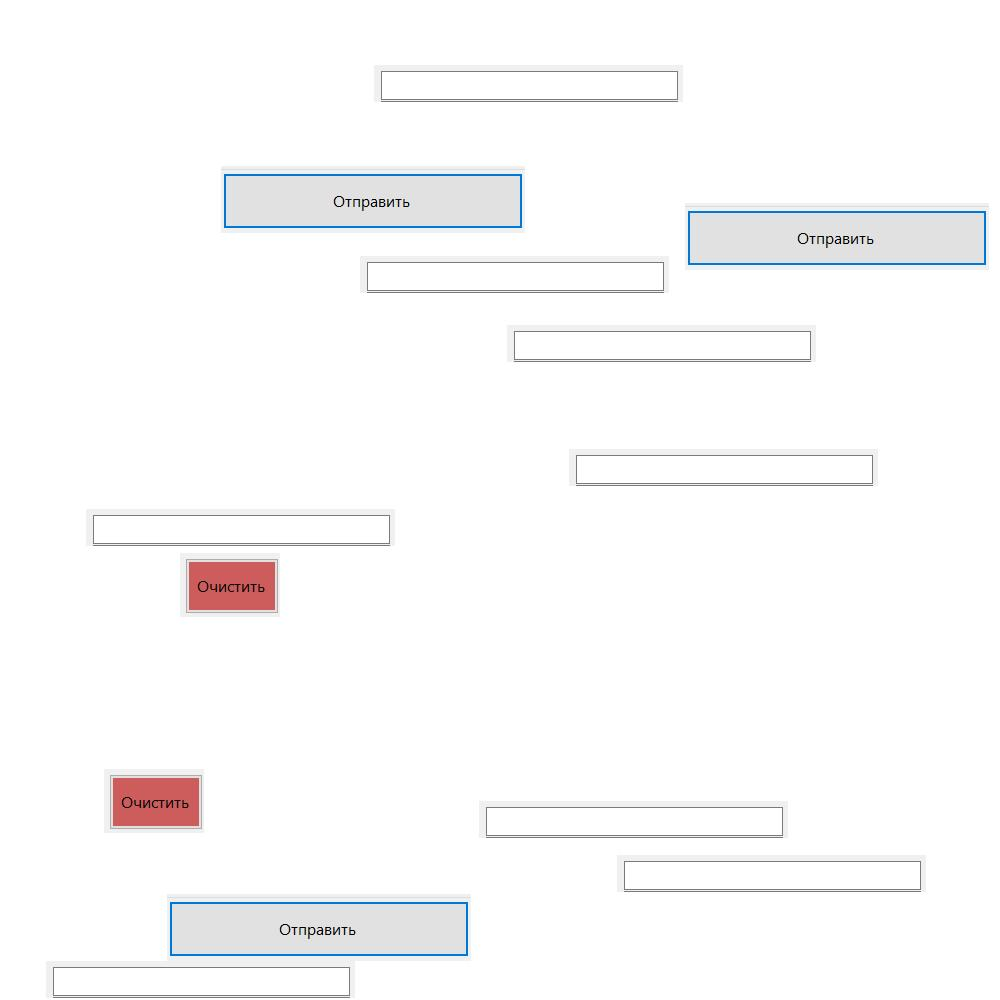Button: (221, 166, 525, 233), (167, 894, 471, 961), (685, 203, 989, 270), (180, 553, 280, 617), (104, 769, 204, 833)
EditText-: (360, 256, 669, 293), (507, 325, 816, 362), (374, 65, 683, 102), (479, 801, 788, 838), (46, 961, 355, 998), (617, 855, 926, 892), (86, 509, 395, 546), (569, 449, 878, 486)
